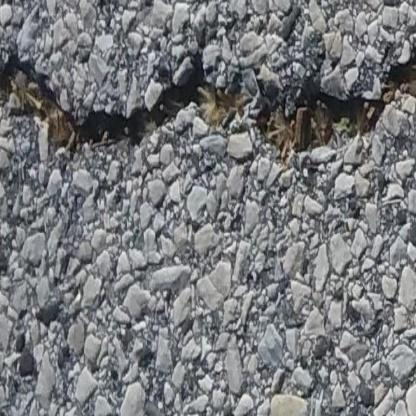Cracks: (0, 45, 255, 161), (256, 54, 416, 169)
